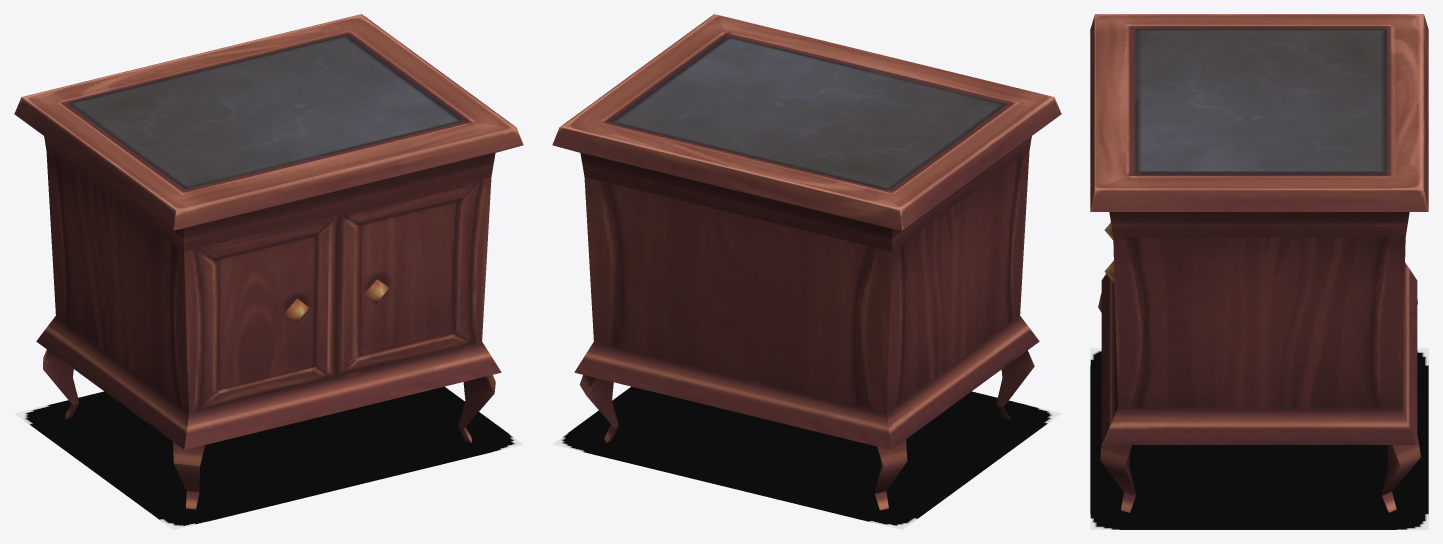
Rendered from jj_ty_guizi02.FBX.
The picture shows the model from 3 angles, left to right: view 1: azimuth 30°, elevation 25°; view 2: azimuth 150°, elevation 25°; view 3: azimuth 270°, elevation 25°; orthographic projection. The views are drawn at different scales.
Parts seen in each view (by area): view 1: jj_ty_guizi02, shadow; view 2: jj_ty_guizi02, shadow; view 3: jj_ty_guizi02, shadow.
Boxes of the visible parts, bbox=[...] form: jj_ty_guizi02: bbox=[14, 14, 523, 509]; shadow: bbox=[14, 386, 523, 529]; jj_ty_guizi02: bbox=[552, 14, 1061, 510]; shadow: bbox=[552, 386, 1061, 529]; jj_ty_guizi02: bbox=[1090, 14, 1428, 512]; shadow: bbox=[1090, 348, 1428, 529].
Size of the model in its own units: 86.69 by 76.03 by 68.27.
